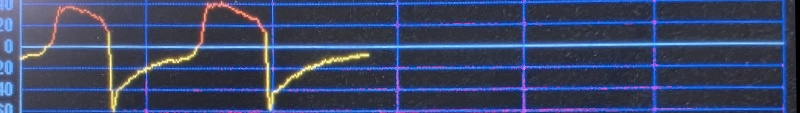normal_flow: (34, 0, 375, 113)
